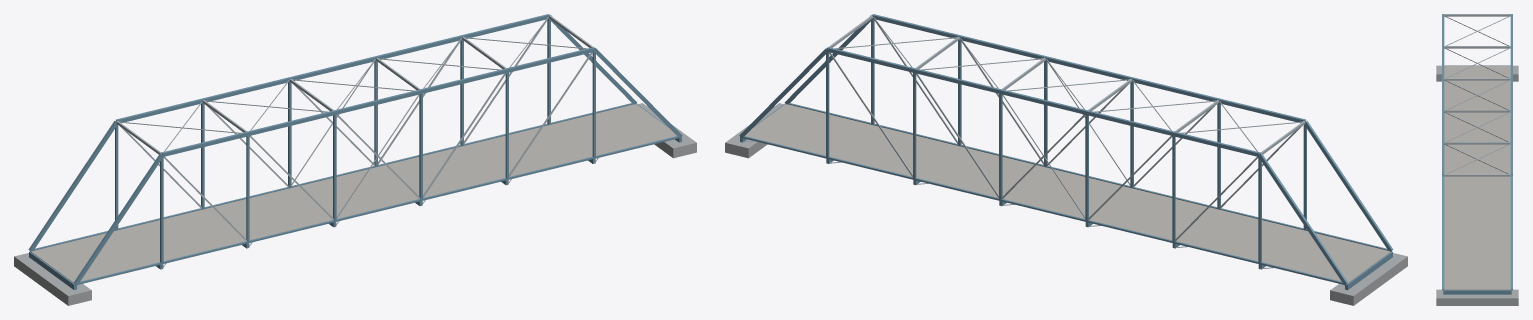
The model's file is bridge.glb.
3 renders of one model, left to right at view 1: azimuth 30°, elevation 25°; view 2: azimuth 150°, elevation 25°; view 3: azimuth 270°, elevation 25°, orthographic. The views are drawn at different scales.
Parts seen in each view (by area): view 1: deck_001, bearing_block_001, upper_chord_001, upper_chord_008, bearing_block_002, upper_chord_007, upper_chord_003, upper_chord_002, upper_chord_004, upper_chord_006, upper_chord_005, upper_chord_014 (+5 smaller); view 2: deck_001, bearing_block_001, upper_chord_008, upper_chord_001, bearing_block_002, upper_chord_014, upper_chord_010, upper_chord_013, upper_chord_009, upper_chord_011, upper_chord_012, upper_chord_007 (+5 smaller); view 3: deck_001, bearing_block_002, upper_chord_007, upper_chord_014, floor_beam_008, upper_crossbeam_006, bearing_block_001, upper_crossbeam_002, upper_crossbeam_001, upper_crossbeam_003, upper_crossbeam_004, upper_crossbeam_005 (+20 smaller).
Boxes of the visible parts, x1,y1,x2,y2 form: deck_001: [31, 104, 676, 283]; bearing_block_001: [14, 253, 91, 305]; upper_chord_001: [73, 154, 163, 285]; upper_chord_008: [28, 120, 117, 251]; bearing_block_002: [638, 103, 696, 158]; upper_chord_007: [594, 48, 682, 137]; upper_chord_003: [247, 110, 335, 135]; upper_chord_002: [161, 131, 248, 156]; upper_chord_004: [334, 89, 421, 114]; upper_chord_006: [507, 47, 594, 72]; upper_chord_005: [421, 68, 507, 93]; upper_chord_014: [548, 14, 637, 104]; deck_001: [745, 104, 1390, 284]; bearing_block_001: [1330, 253, 1407, 305]; upper_chord_008: [1258, 154, 1348, 285]; upper_chord_001: [1304, 120, 1393, 251]; bearing_block_002: [725, 103, 783, 158]; upper_chord_014: [739, 48, 827, 137]; upper_chord_010: [1086, 110, 1174, 135]; upper_chord_013: [827, 47, 914, 72]; upper_chord_009: [1173, 131, 1260, 156]; upper_chord_011: [1000, 89, 1087, 114]; upper_chord_012: [914, 68, 1000, 93]; upper_chord_007: [784, 14, 872, 104]; deck_001: [1444, 65, 1510, 289]; bearing_block_002: [1436, 289, 1518, 305]; upper_chord_007: [1442, 175, 1444, 289]; upper_chord_014: [1510, 175, 1512, 289]; floor_beam_008: [1443, 290, 1511, 294]; upper_crossbeam_006: [1443, 174, 1511, 176]; bearing_block_001: [1436, 65, 1518, 81]; upper_crossbeam_002: [1444, 46, 1510, 48]; upper_crossbeam_001: [1444, 14, 1510, 16]; upper_crossbeam_003: [1444, 78, 1510, 80]; upper_crossbeam_004: [1444, 110, 1510, 112]; upper_crossbeam_005: [1444, 142, 1510, 144].
Size of the model in its own units: 39.96 by 7.63 by 5.97.
